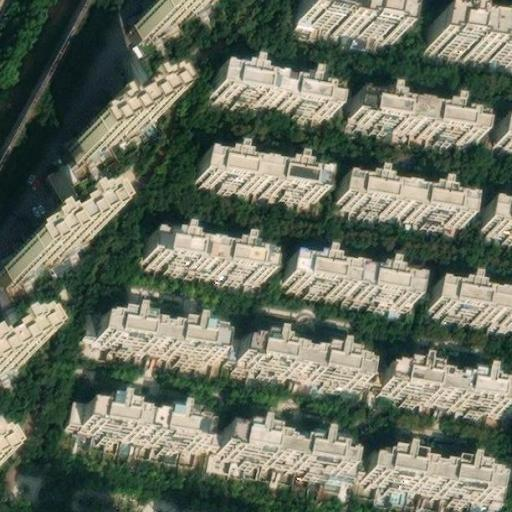building: (355, 89, 488, 138), (238, 333, 371, 382), (224, 421, 357, 470), (369, 448, 502, 497), (288, 253, 421, 302), (340, 172, 473, 221), (386, 358, 512, 406), (202, 147, 329, 194), (69, 97, 162, 161), (4, 216, 97, 279), (220, 61, 339, 110), (147, 229, 273, 275), (98, 310, 223, 356), (83, 397, 208, 443), (435, 5, 512, 50), (435, 278, 512, 319), (305, 0, 407, 29), (50, 153, 85, 200), (0, 342, 32, 376), (0, 417, 15, 459), (66, 398, 86, 427)
